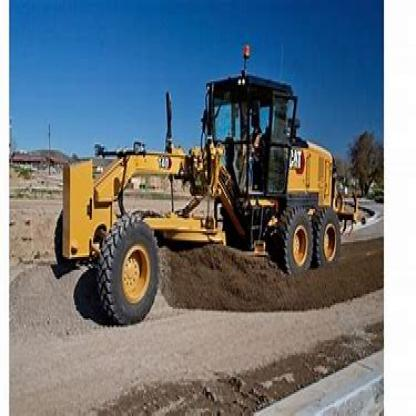bull_dozer/loader/grader: (50, 63, 363, 322)
